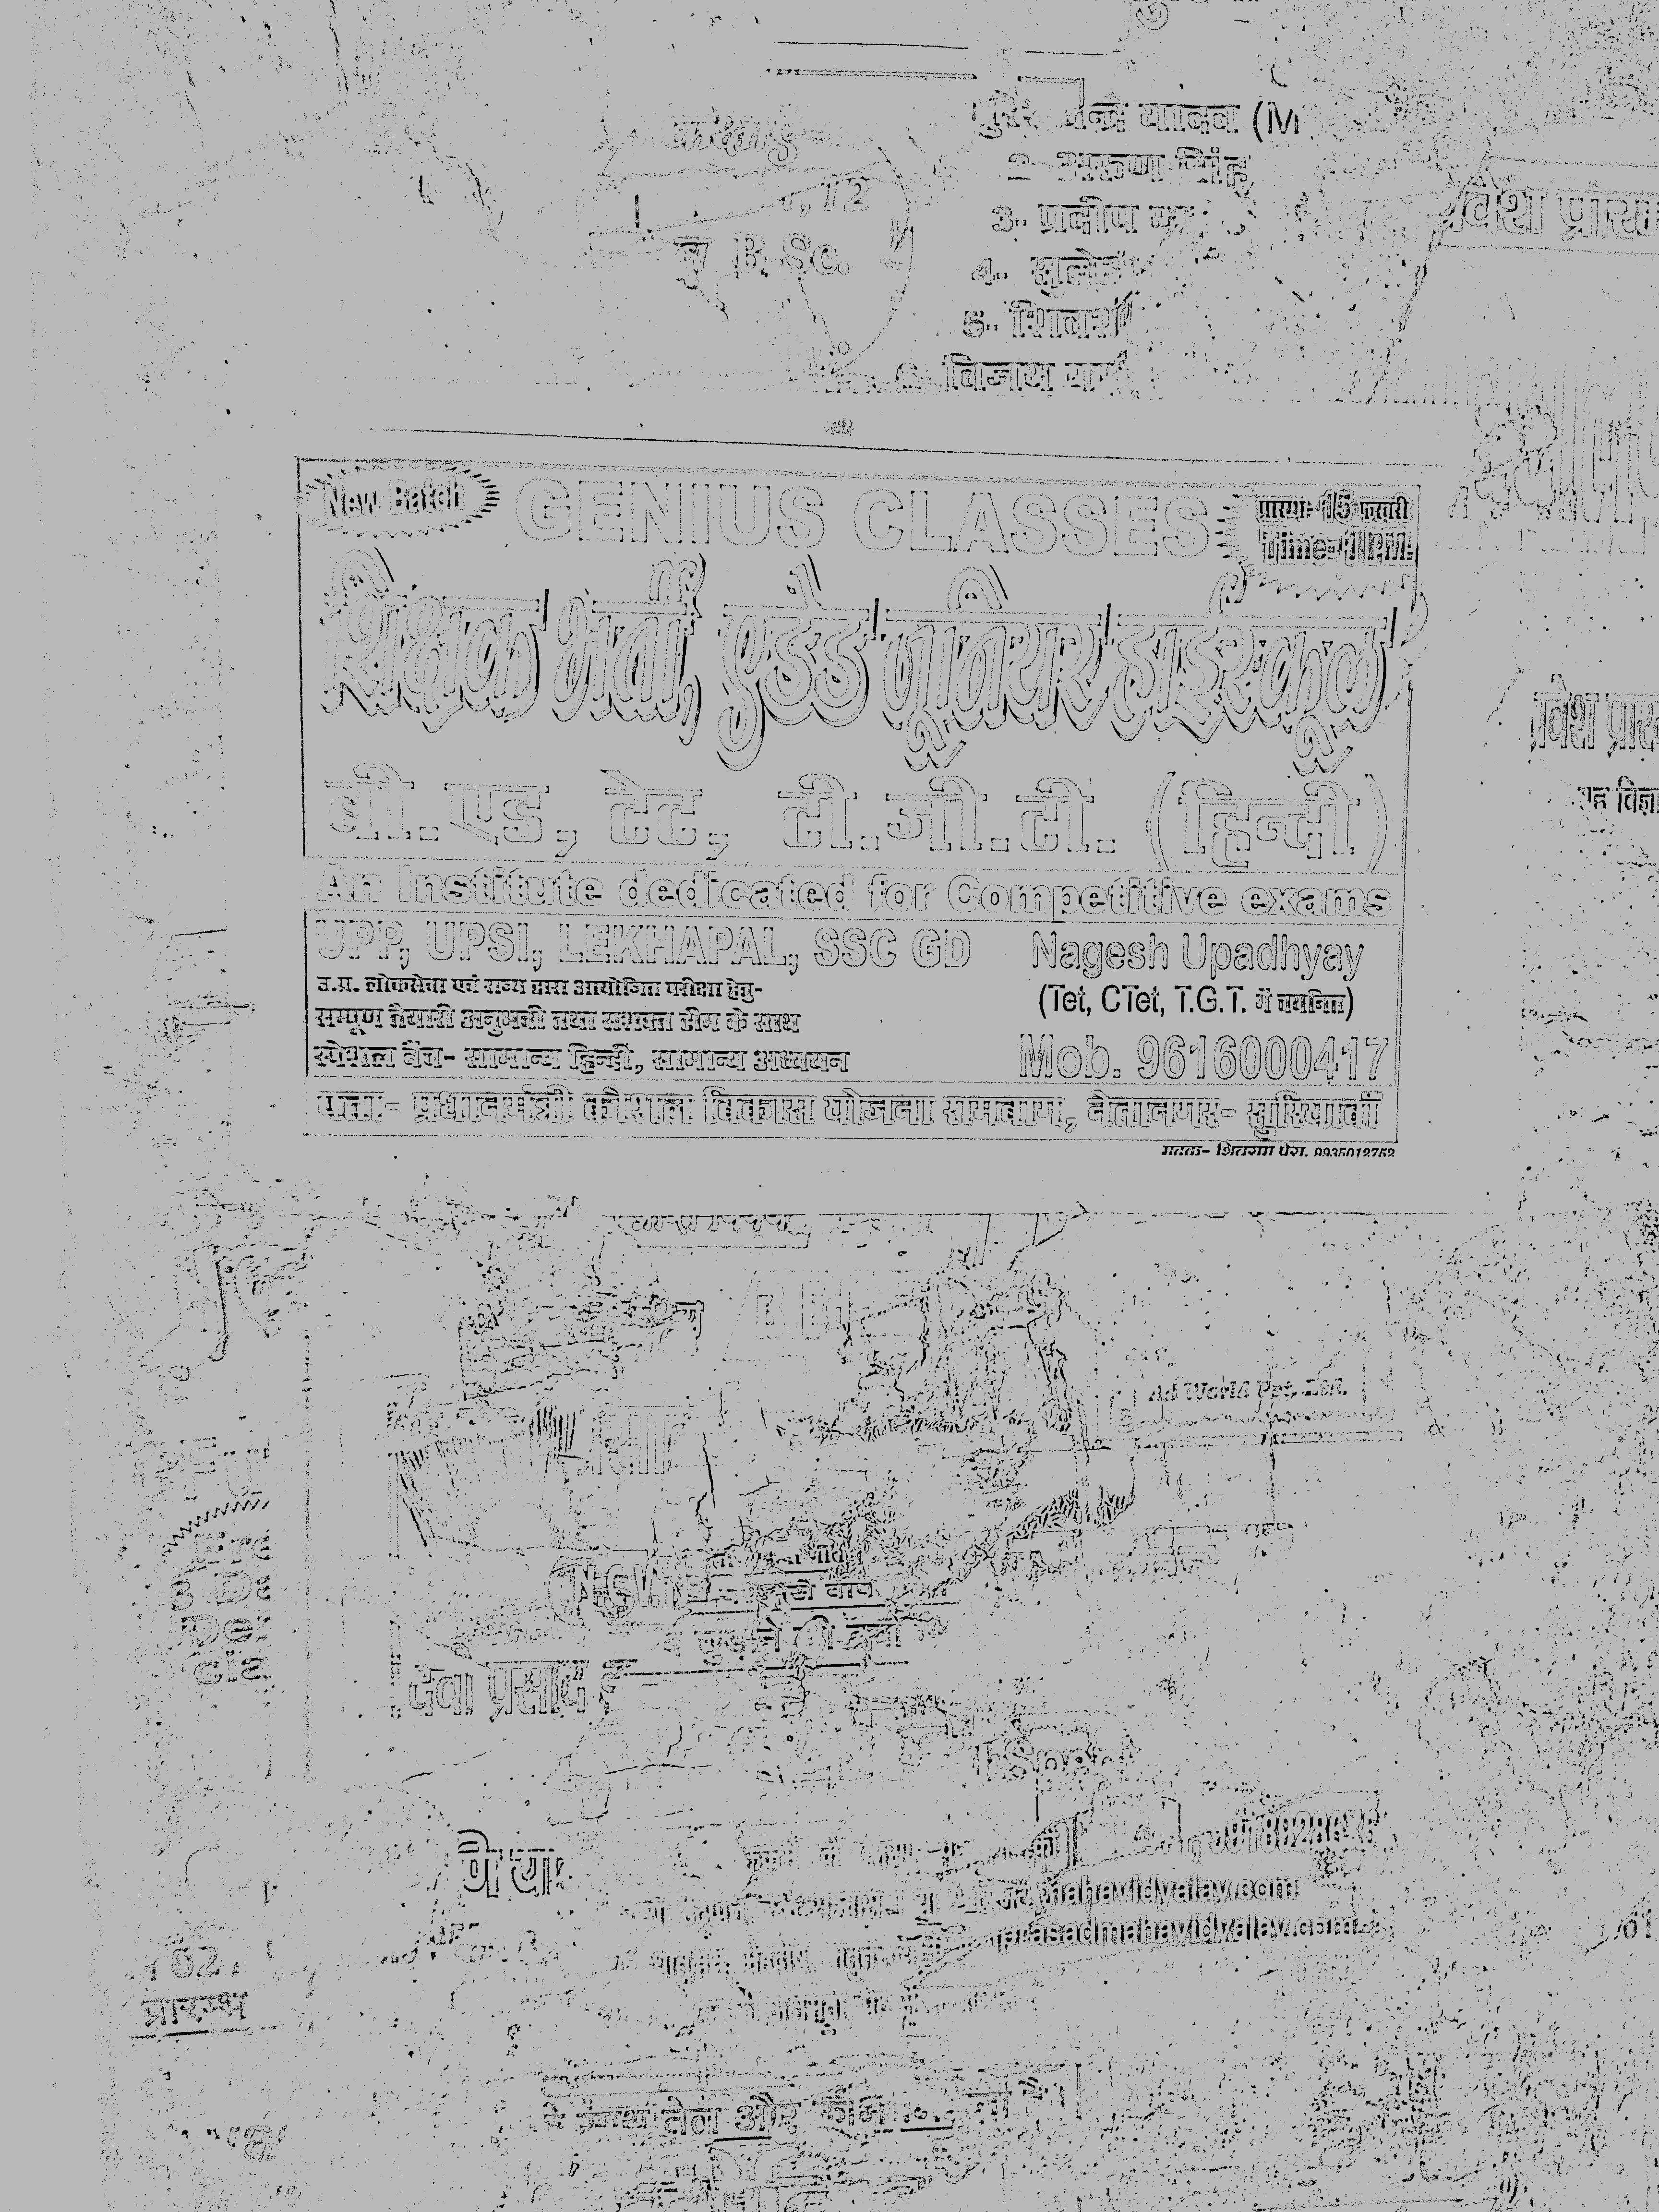text: (220, 371, 1530, 1214)
